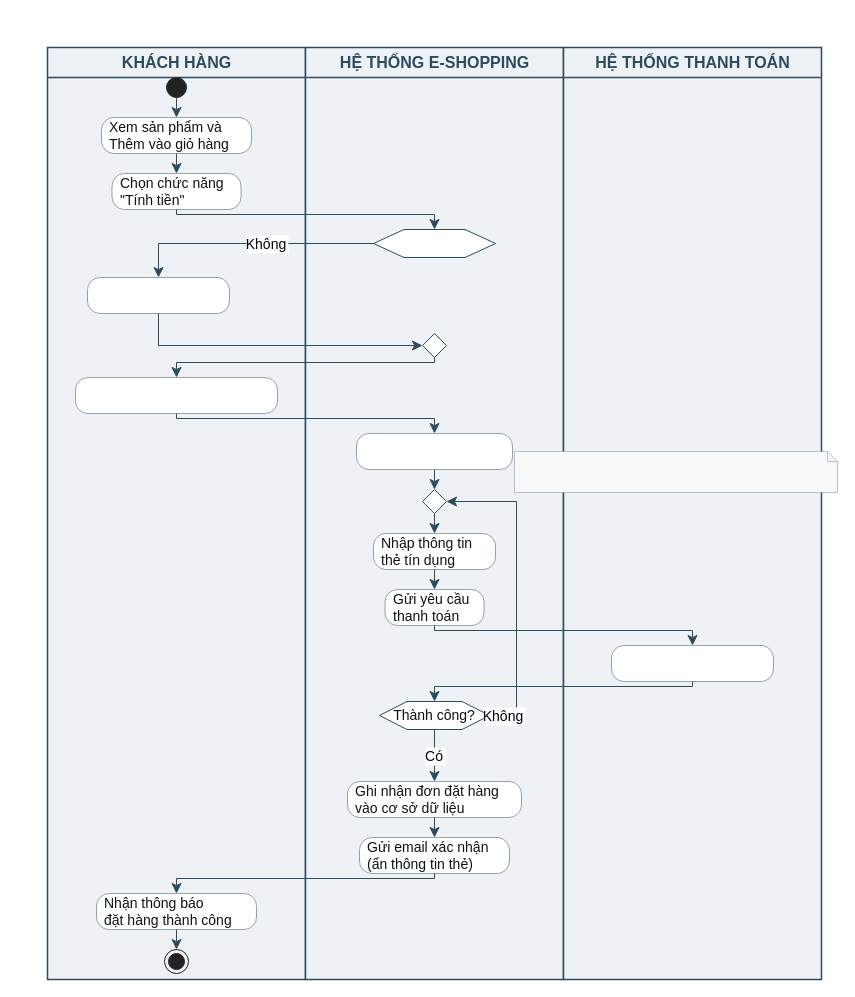
Image size: 855x997. Some labels were removed from this diagram. The centre of each missing label's shape, as x and y in pixels:
- Đơn >= 1.000.000đ: Miễn phí CPN - Đơn >= 5.000.000đ: Miễn phí CPN trong ngày: point 675,471
Nhập thông tin người nhận & Chọn loại giao hàng: point 176,395
Tính phí giao hàng & Tổng hóa đơn: point 434,451
Xác thực thẻ & khả năng thanh toán: point 692,663
Đã đăng nhập?: point 434,243
Đăng nhập hoặc Đăng ký tài khoản: point 158,295
